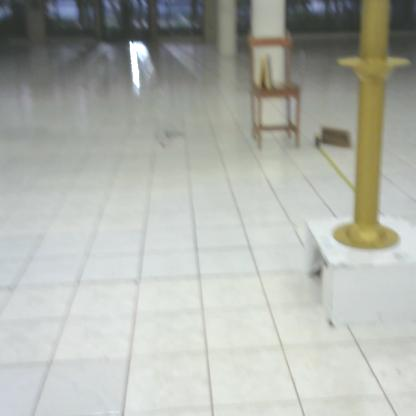pole: (331, 1, 416, 259)
